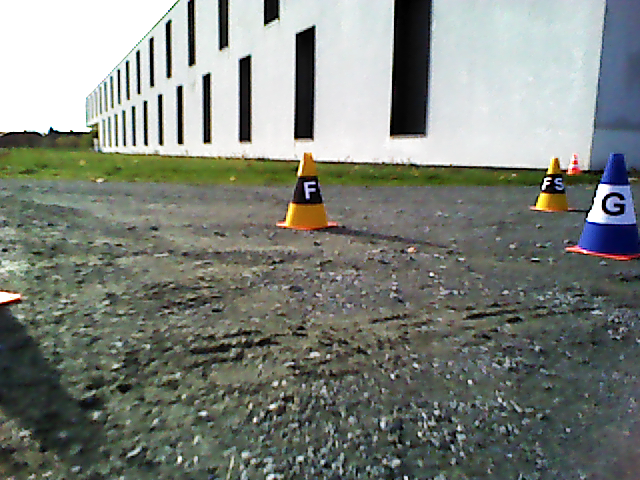bluecone: (583, 153, 640, 252)
yellowcone: (286, 153, 325, 225), (536, 160, 566, 208)
